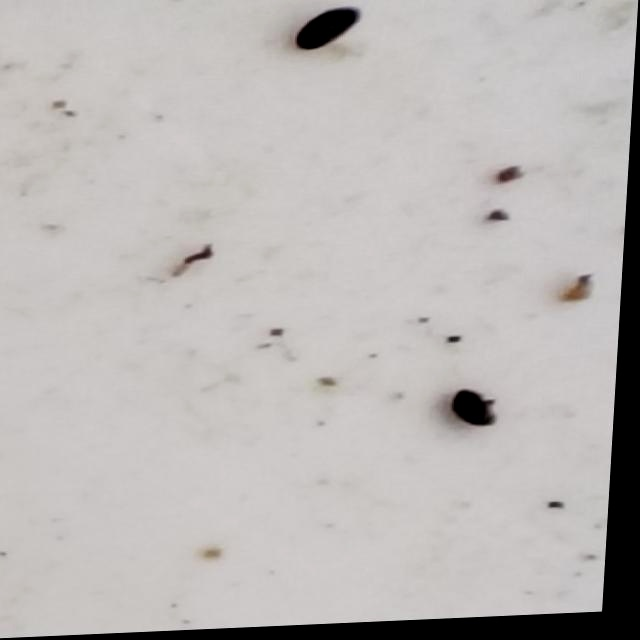varroa: (294, 10, 364, 56), (456, 392, 508, 436)
